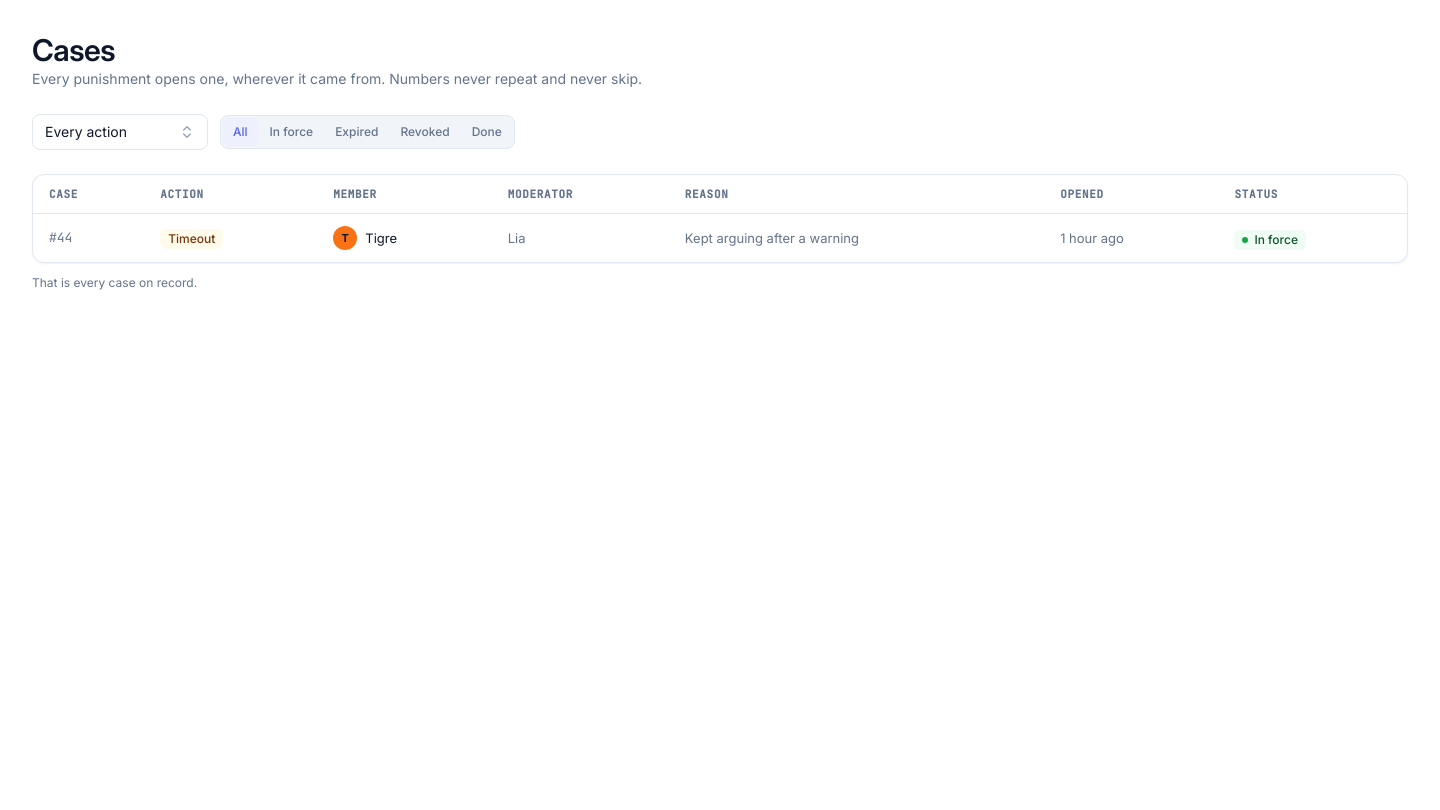
Scenario: undoing a case from the drawer › offers to let a timed out member talk again
The image size is (1440, 810).
Click the button with aria-label "Open case 44": (720, 238) 33,214 -> 1407,262
(page scrolled)
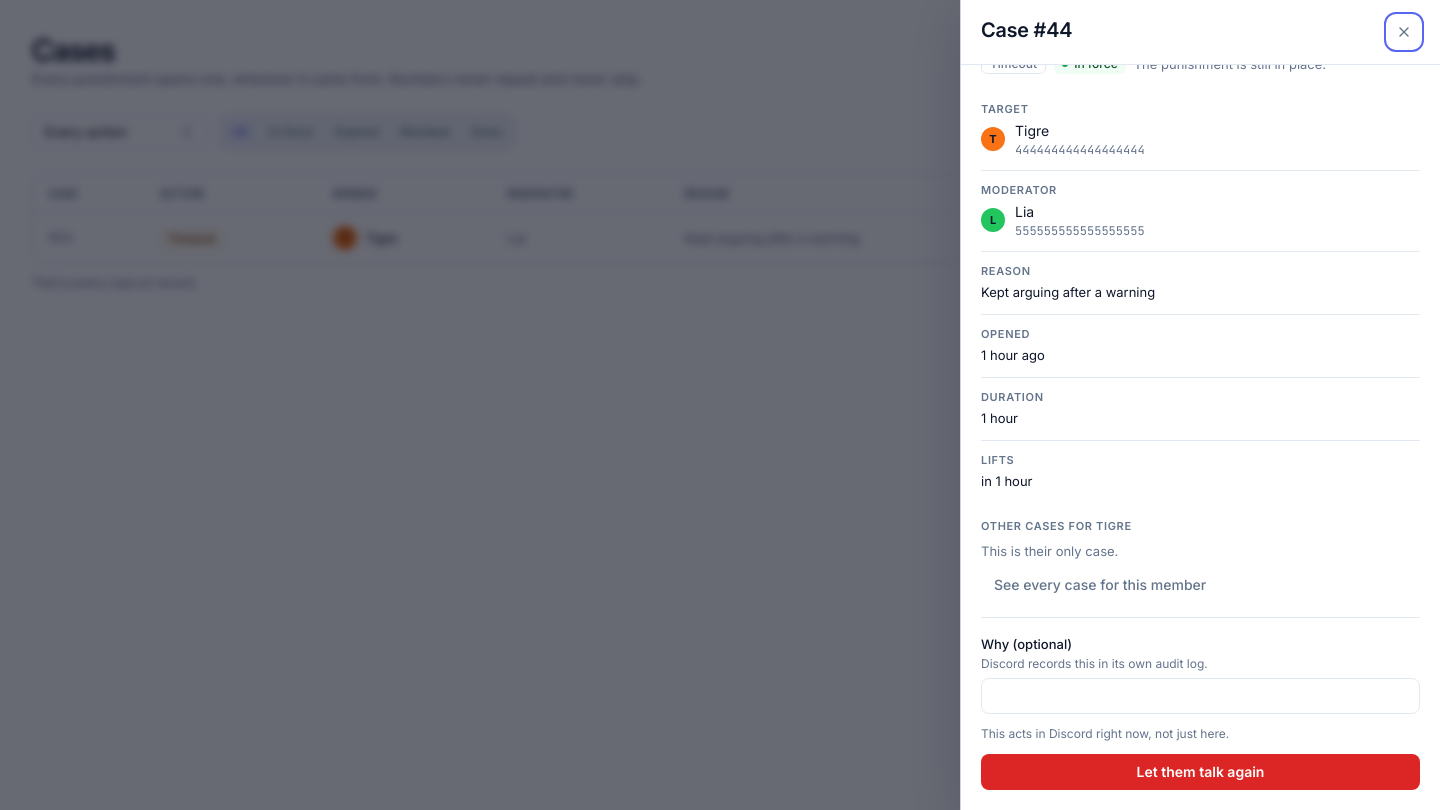
Check: the dialog is shown, box 960,0 -> 1439,809
Check: the button "Let them talk again" is shown, box 981,754 -> 1420,790
